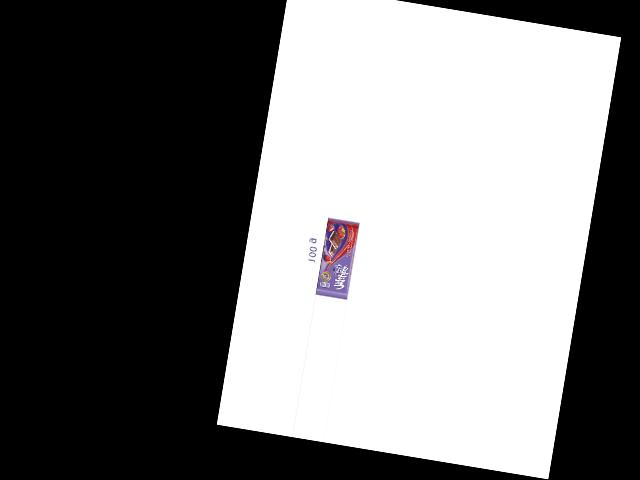chocolate: (311, 216, 360, 299)
